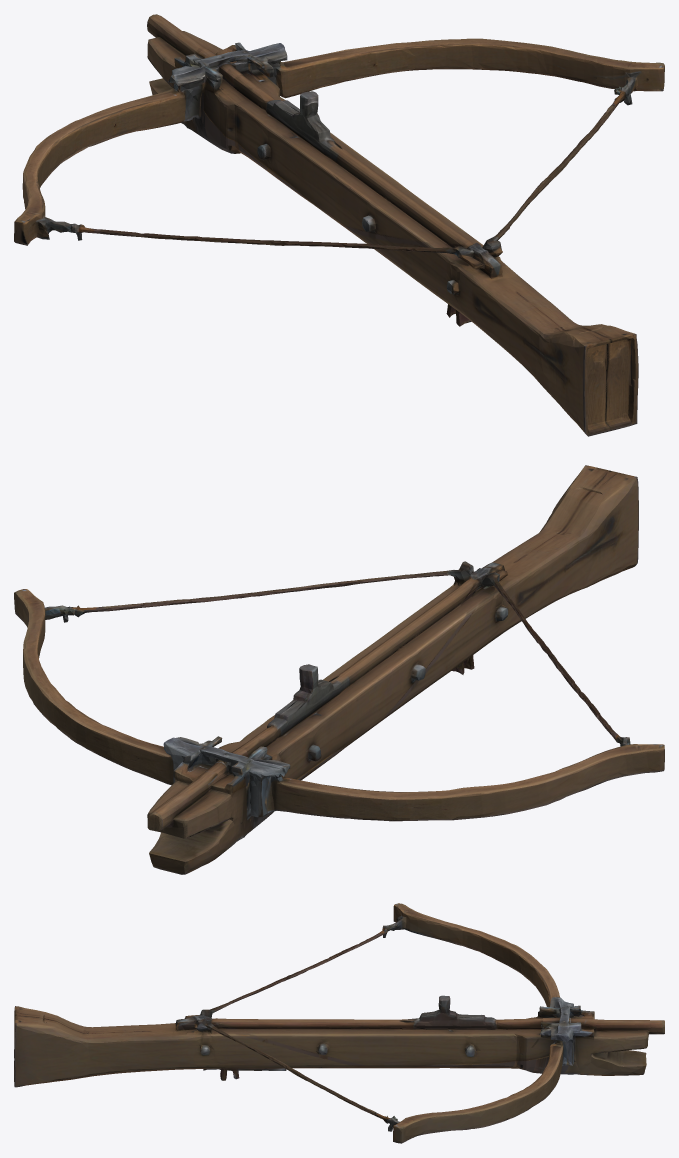
Rendered from simple_medieval_cross_0511104603_texture.fbx.
The picture shows the model from 3 angles, top to bottom: view 1: azimuth 30°, elevation 25°; view 2: azimuth 150°, elevation 25°; view 3: azimuth 270°, elevation 25°; orthographic projection. The views are drawn at different scales.
Visible parts, largest first — view 1: temp; view 2: temp; view 3: temp.
Part boxes in pixels (<box>): temp: <box>14,14,664,436</box>; temp: <box>14,465,664,874</box>; temp: <box>14,903,664,1143</box>.
Bounding box in the file's own units: 164 × 27.7 × 200.
Materials: 1 (1 with a texture image).
